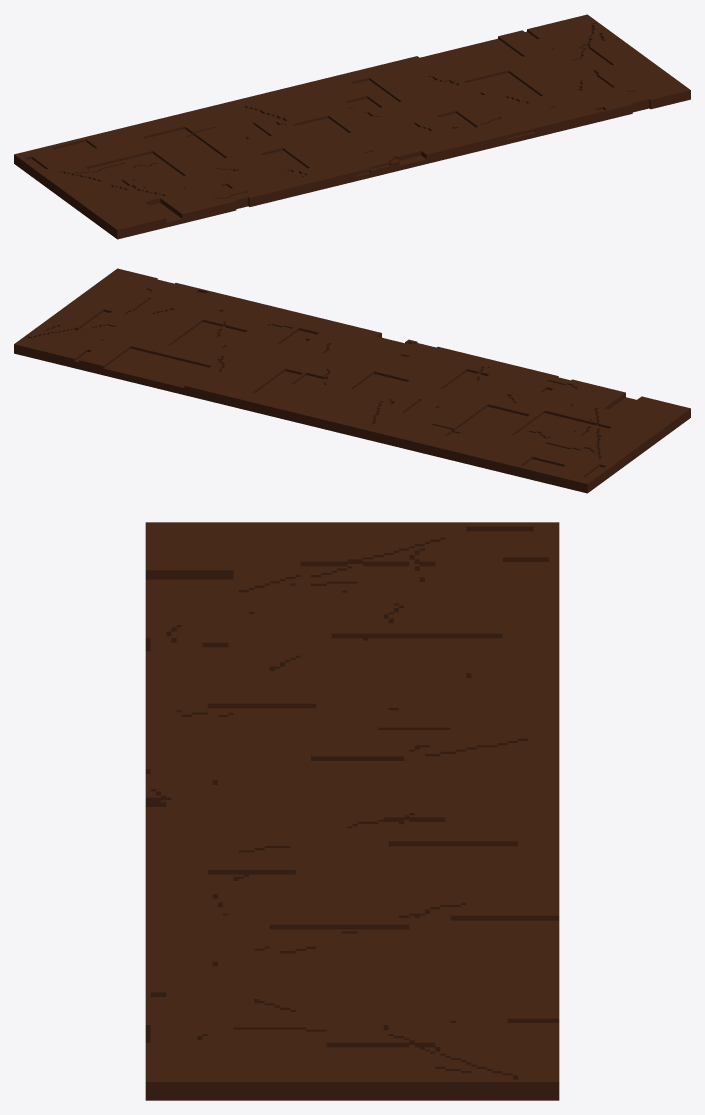
The model's file is EarthBlack.obj.
3 views of the same model, one above another, from view 1: azimuth 30°, elevation 25°; view 2: azimuth 150°, elevation 25°; view 3: azimuth 270°, elevation 25° (orthographic). The views are drawn at different scales.
Size of the model in its own units: 25.6 by 0.4 by 8.
Materials: 1 (1 with a texture image).
